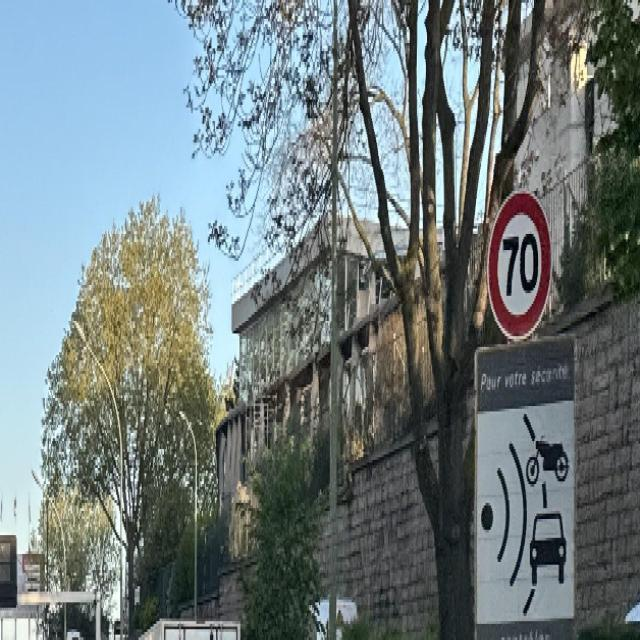speed_70: (486, 193, 553, 345)
